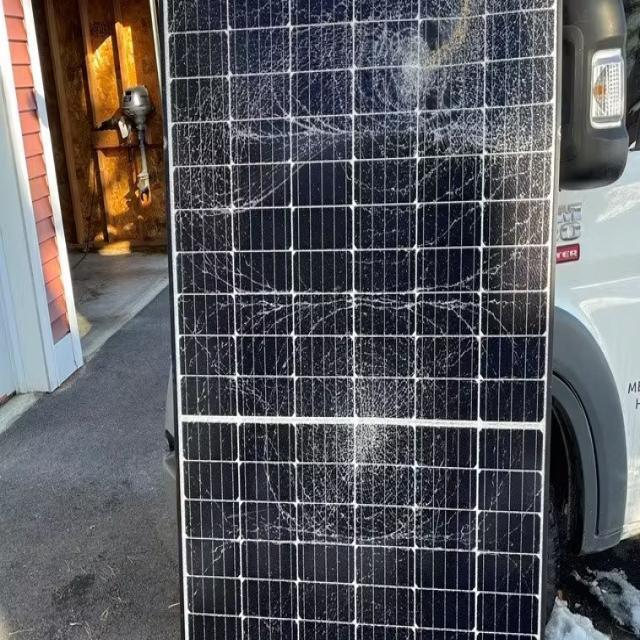Anomaly Solar Panel: (162, 0, 556, 639)
Structural Damage: (175, 256, 548, 569), (163, 0, 555, 234)
